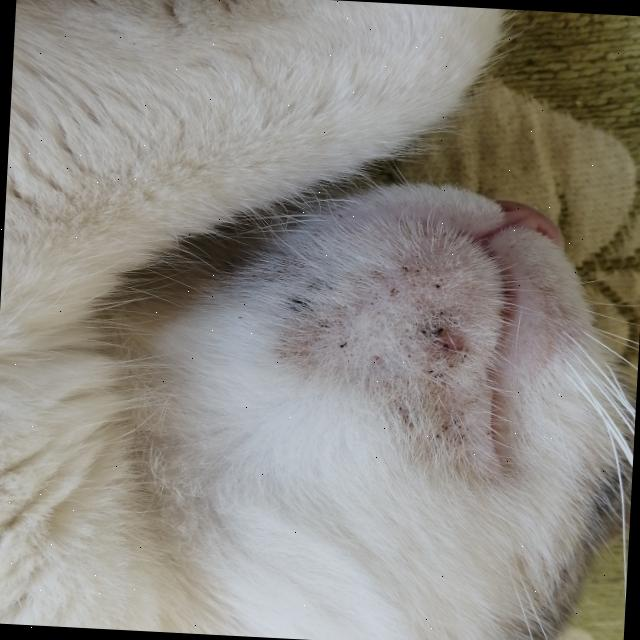cat-dermatitis: (378, 378, 483, 454), (270, 276, 360, 362), (402, 302, 474, 372), (368, 248, 458, 292)
